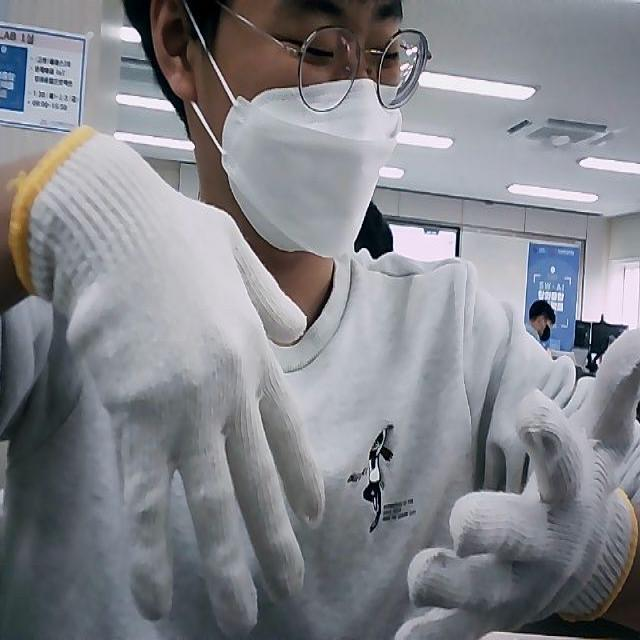gloves: (16, 126, 326, 634), (396, 323, 640, 640)
